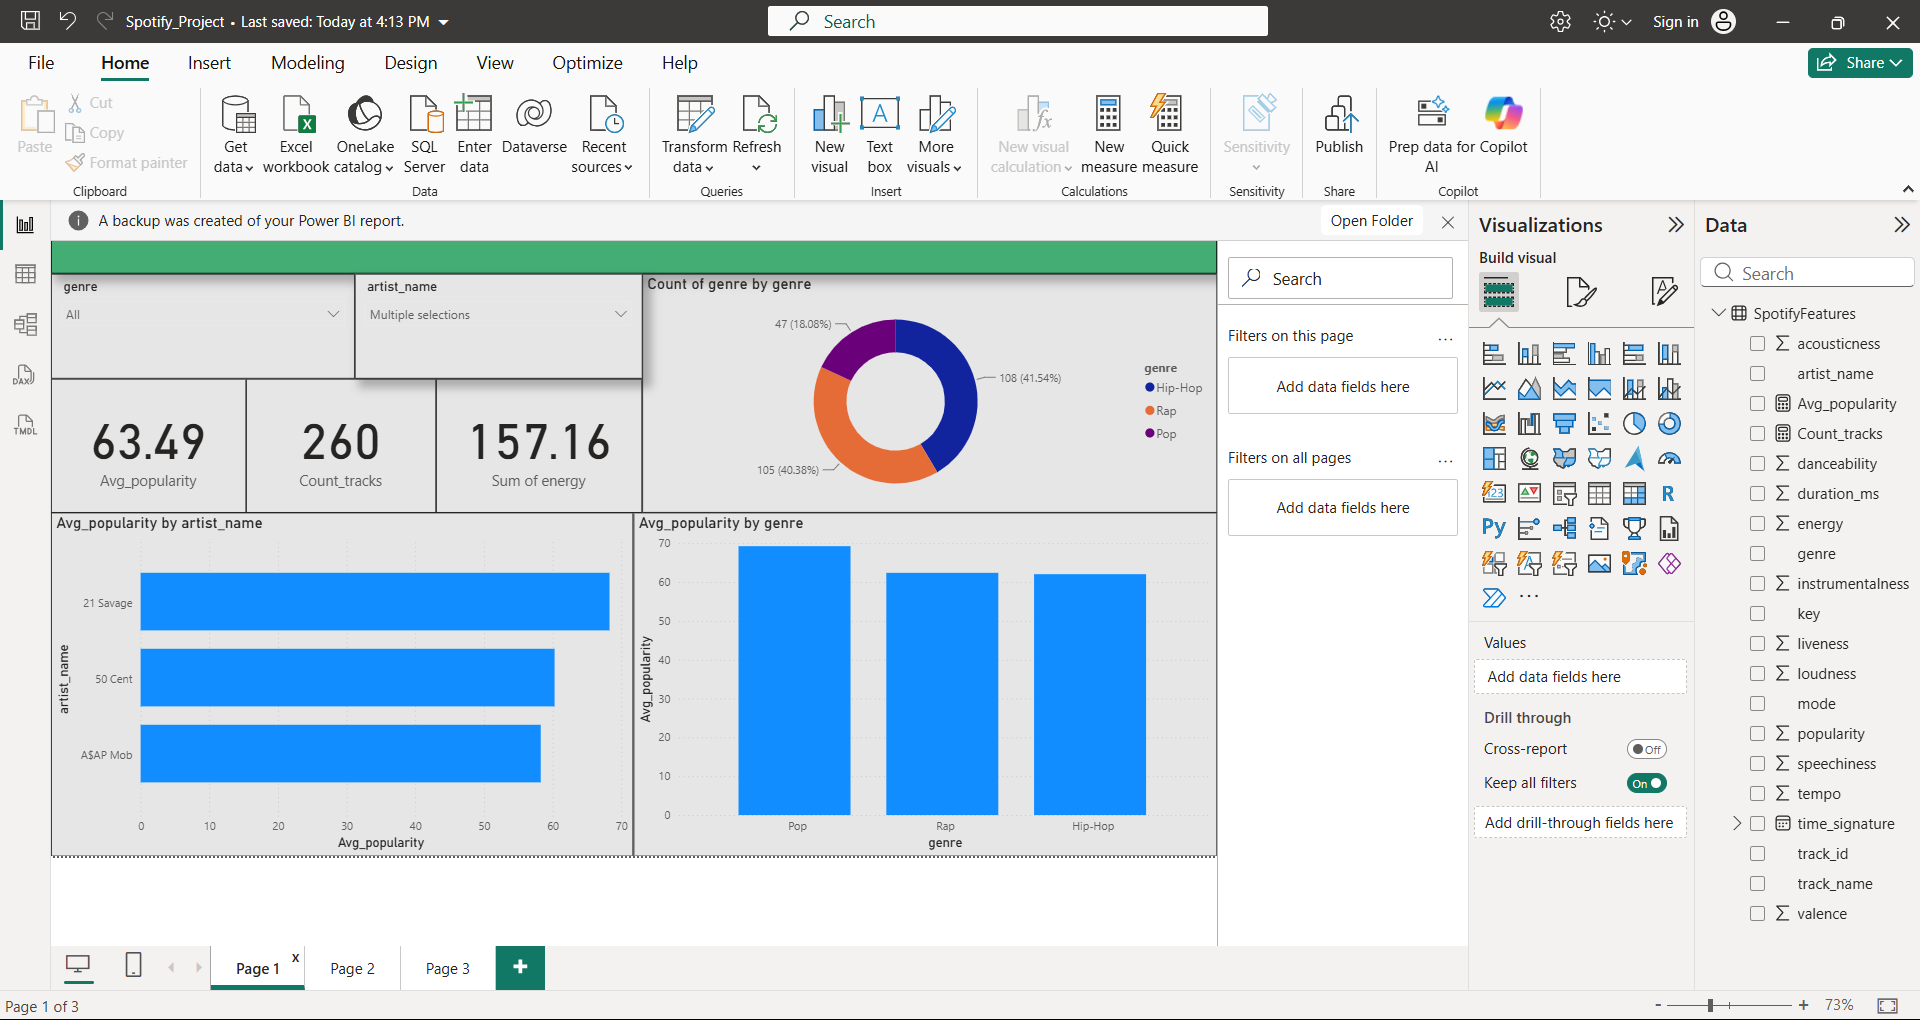

Layout of this report page (visuals, bound fields, positions):
{"tool":"powerbi","page":{"name":"Page 1","canvas":[1280,720],"ordinal":0},"visuals":[{"type":"columnChart","fields":{"Category":["SpotifyFeatures.genre"],"Y":["SpotifyFeatures.Avg_popularity"]},"box":[639.5,343.1,640.8,377.4],"z":0},{"type":"barChart","fields":{"Category":["SpotifyFeatures.artist_name"],"Y":["SpotifyFeatures.Avg_popularity"]},"box":[0,343.1,639.5,377.4],"z":1000},{"type":"slicer","fields":{"Values":["SpotifyFeatures.genre"]},"box":[0,81,333.4,115.3],"z":2000},{"type":"donutChart","fields":{"Category":["SpotifyFeatures.genre"],"Y":["CountNonNull(SpotifyFeatures.genre)"]},"box":[649.1,81,631.2,262.1],"z":3000},{"type":"card","fields":{"Values":["SpotifyFeatures.Avg_popularity"]},"box":[0,196.2,214.1,146.8],"z":4000},{"type":"card","fields":{"Values":["SpotifyFeatures.Count_tracks"]},"box":[214.1,196.2,208.6,146.8],"z":5000},{"type":"card","fields":{"Values":["Sum(SpotifyFeatures.energy)"]},"box":[422.6,196.2,226.4,146.8],"z":6000},{"type":"textbox","box":[0,0,1280.3,81],"z":7000},{"type":"slicer","fields":{"Values":["SpotifyFeatures.artist_name"]},"box":[333.4,81,315.6,115.3],"z":8000}]}

Visuals, with their boxes on the page's 1280x720 design canvas (x1, y1, x2, y2). These are canvas units, not pixel positions in the 1920x1020 screenshot, which may show the page scaled, cropped or inside an application window:
columnChart - SpotifyFeatures.genre x SpotifyFeatures.Avg_popularity: {"x1": 640, "y1": 343, "x2": 1280, "y2": 720}
barChart - SpotifyFeatures.artist_name x SpotifyFeatures.Avg_popularity: {"x1": 0, "y1": 343, "x2": 640, "y2": 720}
slicer - SpotifyFeatures.genre: {"x1": 0, "y1": 81, "x2": 333, "y2": 196}
donutChart - SpotifyFeatures.genre x CountNonNull(SpotifyFeatures.genre): {"x1": 649, "y1": 81, "x2": 1280, "y2": 343}
card - SpotifyFeatures.Avg_popularity: {"x1": 0, "y1": 196, "x2": 214, "y2": 343}
card - SpotifyFeatures.Count_tracks: {"x1": 214, "y1": 196, "x2": 423, "y2": 343}
card - Sum(SpotifyFeatures.energy): {"x1": 423, "y1": 196, "x2": 649, "y2": 343}
textbox: {"x1": 0, "y1": 0, "x2": 1280, "y2": 81}
slicer - SpotifyFeatures.artist_name: {"x1": 333, "y1": 81, "x2": 649, "y2": 196}
